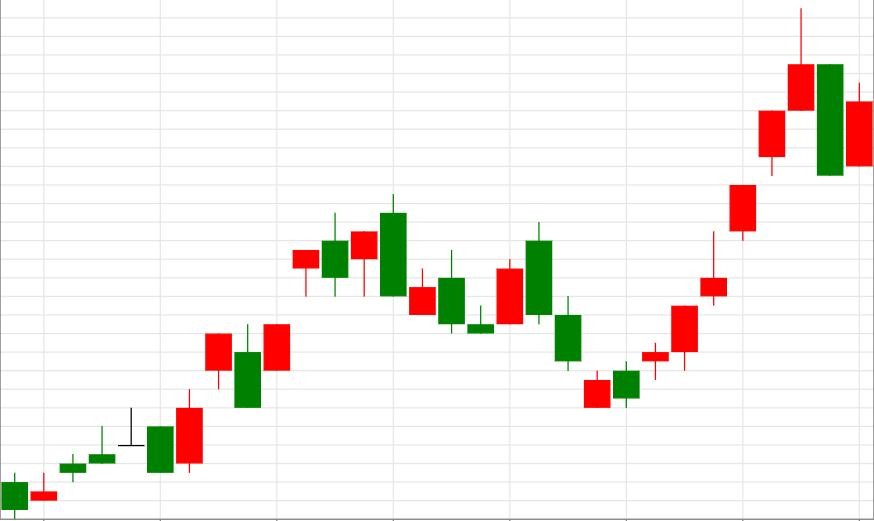shooting_star_fall: (584, 8, 814, 408)
